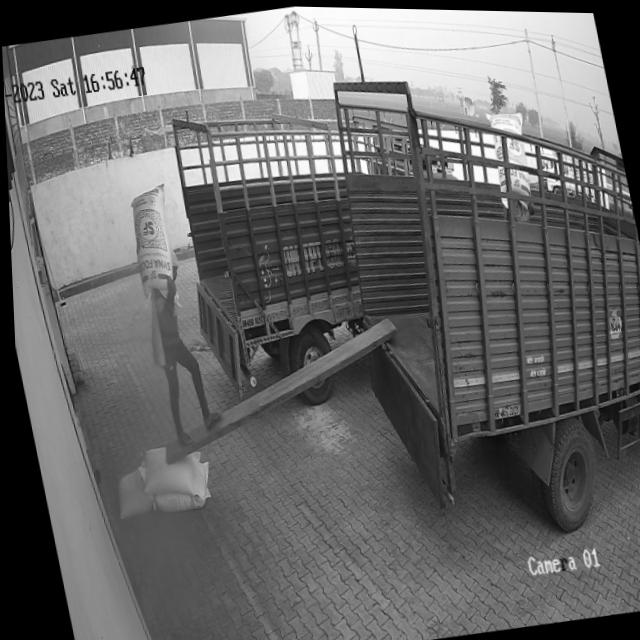sack: (121, 182, 185, 309), (132, 439, 205, 502), (141, 459, 212, 514), (105, 465, 153, 520)
